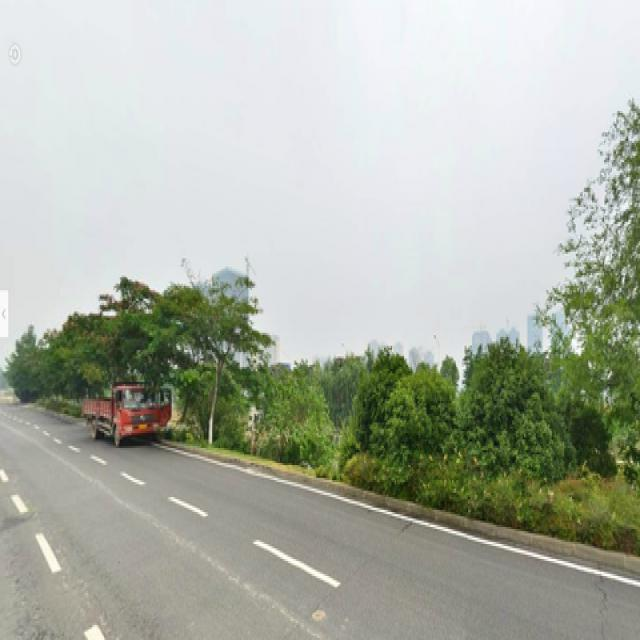albi: (179, 284, 248, 450)
